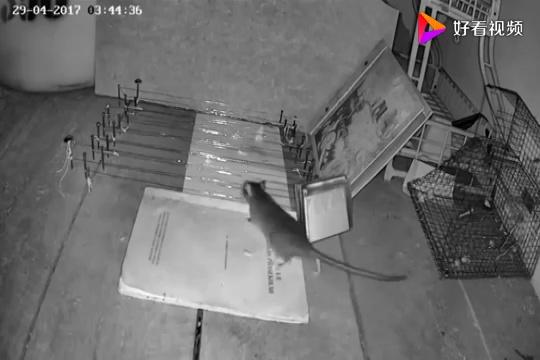rat: (238, 177, 317, 265)
